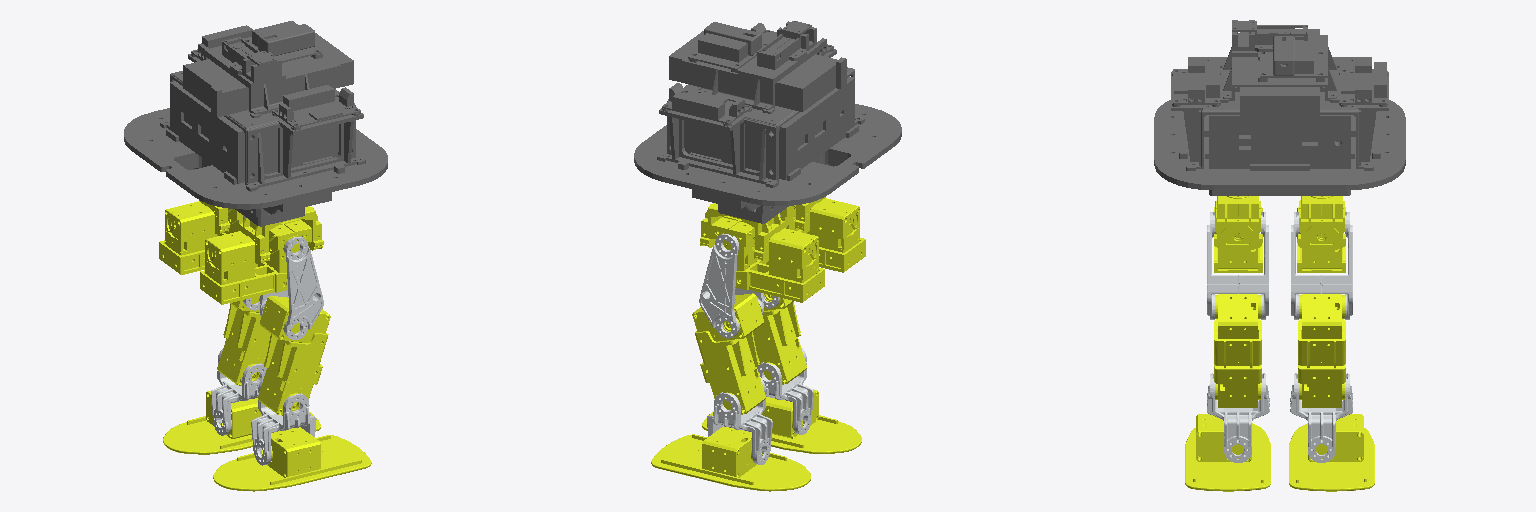
robot.urdf — exhx5_w_b_16:
<?xml version="1.0" encoding="utf-8"?>
<!-- This URDF was automatically created by SolidWorks to URDF Exporter! Originally created by [author] ([email redacted]) 
     Commit Version: 1.5.1-0-g916b5db  Build Version: 1.5.7152.31018
     For more information, please see http://wiki.ros.org/sw_urdf_exporter -->
<robot
  name="exhx5_w_b_16">
  <link
    name="body_link">
    <inertial>
      <origin
        xyz="0.00043545 0.00025536 0.10071"
        rpy="0 0 0" />
      <mass
        value="1.8238" />
      <inertia
        ixx="0.0025905"
        ixy="-5.6852E-06"
        ixz="-1.3106E-05"
        iyy="0.0024595"
        iyz="-1.261E-06"
        izz="0.0046407" />
    </inertial>
    <visual>
      <origin
        xyz="0 0 0"
        rpy="0 0 0" />
      <geometry>
        <mesh
          filename="../meshes/body_link.STL" />
      </geometry>
      <material
        name="">
        <color
          rgba="0.49804 0.49804 0.49804 1" />
      </material>
    </visual>
    <collision>
      <origin
        xyz="0 0 0"
        rpy="0 0 0" />
      <geometry>
        <mesh
          filename="../meshes/body_link.STL" />
      </geometry>
    </collision>
  </link>

  <link
    name="imu_link">
    <inertial>
      <origin
        xyz="-0.008387 1.336E-17 -0.0069463"
        rpy="0 0 0" />
      <mass
        value="0.0062931" />
      <inertia
        ixx="3.2242E-07"
        ixy="3.3527E-22"
        ixz="-6.9193E-08"
        iyy="9.2229E-07"
        iyz="-8.0392E-22"
        izz="1.1018E-06" />
    </inertial>
    <visual>
      <origin
        xyz="0 0 0"
        rpy="0 0 0" />
      <geometry>
        <mesh
          filename="../meshes/imu_link.STL" />
      </geometry>
      <material
        name="">
        <color
          rgba="0.79216 0.81961 0.93333 1" />
      </material>
    </visual>
    <collision>
      <origin
        xyz="0 0 0"
        rpy="0 0 0" />
      <geometry>
        <mesh
          filename="../meshes/imu_link.STL" />
      </geometry>
    </collision>
  </link>
  <joint
    name="imu"
    type="fixed">
    <origin
      xyz="0 0 0.0492"
      rpy="0 0 0" />
    <parent
      link="body_link" />
    <child
      link="imu_link" />
    <axis
      xyz="0 0 0" />
    <limit
      lower="-3.14"
      upper="3.14"
      effort="4"
      velocity="4" />
  </joint>
  <link
    name="l_hip_g_link">
    <inertial>
      <origin
        xyz="-0.0043797 -8.6604E-08 0.011813"
        rpy="0 0 0" />
      <mass
        value="0.061008" />
      <inertia
        ixx="1.167E-05"
        ixy="7.1767E-11"
        ixz="9.1442E-09"
        iyy="2.2342E-05"
        iyz="2.5177E-11"
        izz="2.4892E-05" />
    </inertial>
    <visual>
      <origin
        xyz="0 0 0"
        rpy="0 0 0" />
      <geometry>
        <mesh
          filename="../meshes/l_hip_g_link.STL" />
      </geometry>
      <material
        name="">
        <color
          rgba="0.9451 1 0.18431 1" />
      </material>
    </visual>
    <collision>
      <origin
        xyz="0 0 0"
        rpy="0 0 0" />
      <geometry>
        <mesh
          filename="../meshes/l_hip_g_link.STL" />
      </geometry>
    </collision>
  </link>
  <joint
    name="l_hip_g"
    type="fixed">
    <origin
      xyz=".003 .035 0"
      rpy="0 0 0" />
    <parent
      link="body_link" />
    <child
      link="l_hip_g_link" />
    <axis
      xyz="0 0 0" />
  </joint>
  <link
    name="l_hip_roll_link">
    <inertial>
      <origin
        xyz="0.013831 0.00033457 0.025453"
        rpy="0 0 0" />
      <mass
        value="0.2969" />
      <inertia
        ixx="7.8136E-05"
        ixy="7.265E-07"
        ixz="-6.9809E-08"
        iyy="9.2183E-05"
        iyz="-5.6881E-11"
        izz="7.1034E-05" />
    </inertial>
    <visual>
      <origin
        xyz="0 0 0"
        rpy="0 0 0" />
      <geometry>
        <mesh
          filename="../meshes/l_hip_roll_link.STL" />
      </geometry>
      <material
        name="">
        <color
          rgba="0.9451 1 0.18431 1" />
      </material>
    </visual>
    <collision>
      <origin
        xyz="0 0 0"
        rpy="0 0 0" />
      <geometry>
        <mesh
          filename="../meshes/l_hip_roll_link.STL" />
      </geometry>
    </collision>
  </link>
  <joint
    name="l_hip_roll"
    type="revolute">
    <origin
      xyz="0 0 0"
      rpy="3.1416 1.5708 0" />
    <parent
      link="l_hip_g_link" />
    <child
      link="l_hip_roll_link" />
    <axis
      xyz="0 0 1" />
    <limit
      lower="-3.14"
      upper="3.14"
      effort="4"
      velocity="4" />
  </joint>
  <link
    name="l_hip_pitch_link">
    <inertial>
      <origin
        xyz="0.041225 -0.007321 -5.0713E-08"
        rpy="0 0 0" />
      <mass
        value="0.051592" />
      <inertia
        ixx="2.7959E-05"
        ixy="2.0752E-06"
        ixz="-8.0934E-11"
        iyy="4.8156E-05"
        iyz="3.6317E-11"
        izz="2.9604E-05" />
    </inertial>
    <visual>
      <origin
        xyz="0 0 0"
        rpy="0 0 0" />
      <geometry>
        <mesh
          filename="../meshes/l_hip_pitch_link.STL" />
      </geometry>
      <material
        name="">
        <color
          rgba="0.89804 0.91765 0.92941 1" />
      </material>
    </visual>
    <collision>
      <origin
        xyz="0 0 0"
        rpy="0 0 0" />
      <geometry>
        <mesh
          filename="../meshes/l_hip_pitch_link.STL" />
      </geometry>
    </collision>
  </link>
  <joint
    name="l_hip_pitch"
    type="revolute">
    <origin
      xyz="0 0 0"
      rpy="1.5708 0 0" />
    <parent
      link="l_hip_roll_link" />
    <child
      link="l_hip_pitch_link" />
    <axis
      xyz="0 0 1" />
    <limit
      lower="-3.14"
      upper="3.14"
      effort="4"
      velocity="4" />
  </joint>
  <link
    name="l_knee_link">
    <inertial>
      <origin
        xyz="0.033756 -0.0084189 -6.6115E-09"
        rpy="0 0 0" />
      <mass
        value="0.28878" />
      <inertia
        ixx="6.6724E-05"
        ixy="7.5004E-07"
        ixz="-8.4578E-07"
        iyy="6.5699E-05"
        iyz="4.1085E-07"
        izz="7.0381E-05" />
    </inertial>
    <visual>
      <origin
        xyz="0 0 0"
        rpy="0 0 0" />
      <geometry>
        <mesh
          filename="../meshes/l_knee_link.STL" />
      </geometry>
      <material
        name="">
        <color
          rgba="0.9451 1 0.18431 1" />
      </material>
    </visual>
    <collision>
      <origin
        xyz="0 0 0"
        rpy="0 0 0" />
      <geometry>
        <mesh
          filename="../meshes/l_knee_link.STL" />
      </geometry>
    </collision>
  </link>
  <joint
    name="l_knee"
    type="revolute">
    <origin
      xyz="0.075954 0 0"
      rpy="0 0 0" />
    <parent
      link="l_hip_pitch_link" />
    <child
      link="l_knee_link" />
    <axis
      xyz="0 0 1" />
    <limit
      lower="-3.14"
      upper="3.14"
      effort="4"
      velocity="4" />
  </joint>
  <link
    name="l_ank_pitch_link">
    <inertial>
      <origin
        xyz="0.022786 -7.3909E-09 -7.1981E-06"
        rpy="0 0 0" />
      <mass
        value="0.044772" />
      <inertia
        ixx="1.777E-05"
        ixy="8.555E-14"
        ixz="-3.3713E-09"
        iyy="1.7119E-05"
        iyz="1.7593E-11"
        izz="1.8661E-05" />
    </inertial>
    <visual>
      <origin
        xyz="0 0 0"
        rpy="0 0 0" />
      <geometry>
        <mesh
          filename="../meshes/l_ank_pitch_link.STL" />
      </geometry>
      <material
        name="">
        <color
          rgba="0.89804 0.91765 0.92941 1" />
      </material>
    </visual>
    <collision>
      <origin
        xyz="0 0 0"
        rpy="0 0 0" />
      <geometry>
        <mesh
          filename="../meshes/l_ank_pitch_link.STL" />
      </geometry>
    </collision>
  </link>
  <joint
    name="l_ank_pitch"
    type="revolute">
    <origin
      xyz="0.074602 0 0"
      rpy="3.1416 0 0" />
    <parent
      link="l_knee_link" />
    <child
      link="l_ank_pitch_link" />
    <axis
      xyz="0 0 1" />
    <limit
      lower="-3.14"
      upper="3.14"
      effort="4"
      velocity="4" />
  </joint>
  <link
    name="l_ank_roll_link">
    <inertial>
      <origin
        xyz="0.0047069 0.010728 0.0015299"
        rpy="0 0 0" />
      <mass
        value="0.16774" />
      <inertia
        ixx="0.00012039"
        ixy="-3.7428E-09"
        ixz="4.4069E-08"
        iyy="8.7735E-05"
        iyz="7.0469E-07"
        izz="4.7866E-05" />
    </inertial>
    <visual>
      <origin
        xyz="0 0 0"
        rpy="0 0 0" />
      <geometry>
        <mesh
          filename="../meshes/l_ank_roll_link.STL" />
      </geometry>
      <material
        name="">
        <color
          rgba="0.9451 1 0.18431 1" />
      </material>
    </visual>
    <collision>
      <origin
        xyz="0 0 0"
        rpy="0 0 0" />
      <geometry>
        <mesh
          filename="../meshes/l_ank_roll_link.STL" />
      </geometry>
    </collision>
  </link>
  <joint
    name="l_ank_roll"
    type="revolute">
    <origin
      xyz="0.0465 0 0"
      rpy="-1.5708 0 0" />
    <parent
      link="l_ank_pitch_link" />
    <child
      link="l_ank_roll_link" />
    <axis
      xyz="0 0 1" />
    <limit
      lower="-3.14"
      upper="3.14"
      effort="4"
      velocity="4" />
  </joint>
  <link
    name="r_hip_g_link">
    <inertial>
      <origin
        xyz="-0.0043797 -8.6604E-08 0.011813"
        rpy="0 0 0" />
      <mass
        value="0.061008" />
      <inertia
        ixx="1.167E-05"
        ixy="7.1767E-11"
        ixz="9.1442E-09"
        iyy="2.2342E-05"
        iyz="2.5177E-11"
        izz="2.4892E-05" />
    </inertial>
    <visual>
      <origin
        xyz="0 0 0"
        rpy="0 0 0" />
      <geometry>
        <mesh
          filename="../meshes/r_hip_g_link.STL" />
      </geometry>
      <material
        name="">
        <color
          rgba="0.9451 1 0.18431 1" />
      </material>
    </visual>
    <collision>
      <origin
        xyz="0 0 0"
        rpy="0 0 0" />
      <geometry>
        <mesh
          filename="../meshes/r_hip_g_link.STL" />
      </geometry>
    </collision>
  </link>
  <joint
    name="r_hip_g"
    type="fixed">
    <origin
      xyz=".003 -.035 0"
      rpy="0 0 0" />
    <parent
      link="body_link" />
    <child
      link="r_hip_g_link" />
    <axis
      xyz="0 0 0" />
  </joint>
  <link
    name="r_hip_roll_link">
    <inertial>
      <origin
        xyz="0.013831 0.00033457 0.025453"
        rpy="0 0 0" />
      <mass
        value="0.2969" />
      <inertia
        ixx="7.8136E-05"
        ixy="7.265E-07"
        ixz="-6.9809E-08"
        iyy="9.2183E-05"
        iyz="-5.6881E-11"
        izz="7.1034E-05" />
    </inertial>
    <visual>
      <origin
        xyz="0 0 0"
        rpy="0 0 0" />
      <geometry>
        <mesh
          filename="../meshes/r_hip_roll_link.STL" />
      </geometry>
      <material
        name="">
        <color
          rgba="0.9451 1 0.18431 1" />
      </material>
    </visual>
    <collision>
      <origin
        xyz="0 0 0"
        rpy="0 0 0" />
      <geometry>
        <mesh
          filename="../meshes/r_hip_roll_link.STL" />
      </geometry>
    </collision>
  </link>
  <joint
    name="r_hip_roll"
    type="revolute">
    <origin
      xyz="0 0 0"
      rpy="3.1416 1.5708 0" />
    <parent
      link="r_hip_g_link" />
    <child
      link="r_hip_roll_link" />
    <axis
      xyz="0 0 1" />
    <limit
      lower="-3.14"
      upper="3.14"
      effort="4"
      velocity="4" />
  </joint>
  <link
    name="r_hip_pitch_link">
    <inertial>
      <origin
        xyz="0.041225 0.007321 5.0713E-08"
        rpy="0 0 0" />
      <mass
        value="0.051592" />
      <inertia
        ixx="2.7959E-05"
        ixy="-2.0752E-06"
        ixz="8.0934E-11"
        iyy="4.8156E-05"
        iyz="3.6317E-11"
        izz="2.9604E-05" />
    </inertial>
    <visual>
      <origin
        xyz="0 0 0"
        rpy="0 0 0" />
      <geometry>
        <mesh
          filename="../meshes/r_hip_pitch_link.STL" />
      </geometry>
      <material
        name="">
        <color
          rgba="0.89804 0.91765 0.92941 1" />
      </material>
    </visual>
    <collision>
      <origin
        xyz="0 0 0"
        rpy="0 0 0" />
      <geometry>
        <mesh
          filename="../meshes/r_hip_pitch_link.STL" />
      </geometry>
    </collision>
  </link>
  <joint
    name="r_hip_pitch"
    type="revolute">
    <origin
      xyz="0 0 0"
      rpy="-1.5708 0 0" />
    <parent
      link="r_hip_roll_link" />
    <child
      link="r_hip_pitch_link" />
    <axis
      xyz="0 0 1" />
    <limit
      lower="-3.14"
      upper="3.14"
      effort="4"
      velocity="4" />
  </joint>
  <link
    name="r_knee_link">
    <inertial>
      <origin
        xyz="0.033757 0.0084176 6.6115E-09"
        rpy="0 0 0" />
      <mass
        value="0.28878" />
      <inertia
        ixx="6.6724E-05"
        ixy="-7.5008E-07"
        ixz="8.458E-07"
        iyy="6.5699E-05"
        iyz="4.1081E-07"
        izz="7.0381E-05" />
    </inertial>
    <visual>
      <origin
        xyz="0 0 0"
        rpy="0 0 0" />
      <geometry>
        <mesh
          filename="../meshes/r_knee_link.STL" />
      </geometry>
      <material
        name="">
        <color
          rgba="0.9451 1 0.18431 1" />
      </material>
    </visual>
    <collision>
      <origin
        xyz="0 0 0"
        rpy="0 0 0" />
      <geometry>
        <mesh
          filename="../meshes/r_knee_link.STL" />
      </geometry>
    </collision>
  </link>
  <joint
    name="r_knee"
    type="revolute">
    <origin
      xyz="0.075954 0 0"
      rpy="0 0 0" />
    <parent
      link="r_hip_pitch_link" />
    <child
      link="r_knee_link" />
    <axis
      xyz="0 0 1" />
    <limit
      lower="-3.14"
      upper="3.14"
      effort="4"
      velocity="4" />
  </joint>
  <link
    name="r_ank_pitch_link">
    <inertial>
      <origin
        xyz="0.025786 -7.3887E-09 -7.1981E-06"
        rpy="0 0 0" />
      <mass
        value="0.044772" />
      <inertia
        ixx="1.777E-05"
        ixy="8.5434E-14"
        ixz="-3.3713E-09"
        iyy="1.7119E-05"
        iyz="1.7592E-11"
        izz="1.8661E-05" />
    </inertial>
    <visual>
      <origin
        xyz="0 0 0"
        rpy="0 0 0" />
      <geometry>
        <mesh
          filename="../meshes/r_ank_pitch_link.STL" />
      </geometry>
      <material
        name="">
        <color
          rgba="0.89804 0.91765 0.92941 1" />
      </material>
    </visual>
    <collision>
      <origin
        xyz="0 0 0"
        rpy="0 0 0" />
      <geometry>
        <mesh
          filename="../meshes/r_ank_pitch_link.STL" />
      </geometry>
    </collision>
  </link>
  <joint
    name="r_ank_pitch"
    type="revolute">
    <origin
      xyz="0.071602 0 0"
      rpy="3.1416 0 0" />
    <parent
      link="r_knee_link" />
    <child
      link="r_ank_pitch_link" />
    <axis
      xyz="0 0 1" />
    <limit
      lower="-3.14"
      upper="3.14"
      effort="4"
      velocity="4" />
  </joint>
  <link
    name="r_ank_roll_link">
    <inertial>
      <origin
        xyz="0.0077069 -0.010728 0.0015299"
        rpy="0 0 0" />
      <mass
        value="0.16774" />
      <inertia
        ixx="0.00012039"
        ixy="3.743E-09"
        ixz="4.407E-08"
        iyy="8.7735E-05"
        iyz="-7.0467E-07"
        izz="4.7866E-05" />
    </inertial>
    <visual>
      <origin
        xyz="0 0 0"
        rpy="0 0 0" />
      <geometry>
        <mesh
          filename="../meshes/r_ank_roll_link.STL" />
      </geometry>
      <material
        name="">
        <color
          rgba="0.9451 1 0.18431 1" />
      </material>
    </visual>
    <collision>
      <origin
        xyz="0 0 0"
        rpy="0 0 0" />
      <geometry>
        <mesh
          filename="../meshes/r_ank_roll_link.STL" />
      </geometry>
    </collision>
  </link>
  <joint
    name="r_ank_roll"
    type="revolute">
    <origin
      xyz="0.0465 0 0"
      rpy="1.5708 0 0" />
    <parent
      link="r_ank_pitch_link" />
    <child
      link="r_ank_roll_link" />
    <axis
      xyz="0 0 1" />
    <limit
      lower="-3.14"
      upper="3.14"
      effort="4"
      velocity="4" />
  </joint>
  <transmission name="r_hip_roll_tran">
    <type>transmission_interface/SimpleTransmission</type>
    <joint name="r_hip_roll">
      <hardwareInterface>hardware_interface/EffortJointInterface</hardwareInterface>
    </joint>
    <actuator name="r_hip_roll_motor">
      <hardwareInterface>hardware_interface/EffortJointInterface</hardwareInterface>
      <mechanicalReduction>1</mechanicalReduction>
    </actuator>
  </transmission>
  <transmission name="r_hip_pitch_tran">
    <type>transmission_interface/SimpleTransmission</type>
    <joint name="r_hip_pitch">
      <hardwareInterface>hardware_interface/EffortJointInterface</hardwareInterface>
    </joint>
    <actuator name="r_hip_pitch_motor">
      <hardwareInterface>hardware_interface/EffortJointInterface</hardwareInterface>
      <mechanicalReduction>1</mechanicalReduction>
    </actuator>
  </transmission>
  <transmission name="r_knee_tran">
    <type>transmission_interface/SimpleTransmission</type>
    <joint name="r_knee">
      <hardwareInterface>hardware_interface/EffortJointInterface</hardwareInterface>
    </joint>
    <actuator name="r_knee_motor">
      <hardwareInterface>hardware_interface/EffortJointInterface</hardwareInterface>
      <mechanicalReduction>1</mechanicalReduction>
    </actuator>
  </transmission>
  <transmission name="r_ank_pitch_tran">
    <type>transmission_interface/SimpleTransmission</type>
    <joint name="r_ank_pitch">
      <hardwareInterface>hardware_interface/EffortJointInterface</hardwareInterface>
    </joint>
    <actuator name="r_ank_pitch_motor">
      <hardwareInterface>hardware_interface/EffortJointInterface</hardwareInterface>
      <mechanicalReduction>1</mechanicalReduction>
    </actuator>
  </transmission>
  <transmission name="r_ank_roll_tran">
    <type>transmission_interface/SimpleTransmission</type>
    <joint name="r_ank_roll">
      <hardwareInterface>hardware_interface/EffortJointInterface</hardwareInterface>
    </joint>
    <actuator name="r_ank_roll_motor">
      <hardwareInterface>hardware_interface/EffortJointInterface</hardwareInterface>
      <mechanicalReduction>1</mechanicalReduction>
    </actuator>
  </transmission>
  <transmission name="l_hip_roll_tran">
    <type>transmission_interface/SimpleTransmission</type>
    <joint name="l_hip_roll">
      <hardwareInterface>hardware_interface/EffortJointInterface</hardwareInterface>
    </joint>
    <actuator name="l_hip_roll_motor">
      <hardwareInterface>hardware_interface/EffortJointInterface</hardwareInterface>
      <mechanicalReduction>1</mechanicalReduction>
    </actuator>
  </transmission>
  <transmission name="l_hip_pitch_tran">
    <type>transmission_interface/SimpleTransmission</type>
    <joint name="l_hip_pitch">
      <hardwareInterface>hardware_interface/EffortJointInterface</hardwareInterface>
    </joint>
    <actuator name="l_hip_pitch_motor">
      <hardwareInterface>hardware_interface/EffortJointInterface</hardwareInterface>
      <mechanicalReduction>1</mechanicalReduction>
    </actuator>
  </transmission>
  <transmission name="l_knee_tran">
    <type>transmission_interface/SimpleTransmission</type>
    <joint name="l_knee">
      <hardwareInterface>hardware_interface/EffortJointInterface</hardwareInterface>
    </joint>
    <actuator name="l_knee_motor">
      <hardwareInterface>hardware_interface/EffortJointInterface</hardwareInterface>
      <mechanicalReduction>1</mechanicalReduction>
    </actuator>
  </transmission>
  <transmission name="l_ank_pitch_tran">
    <type>transmission_interface/SimpleTransmission</type>
    <joint name="l_ank_pitch">
      <hardwareInterface>hardware_interface/EffortJointInterface</hardwareInterface>
    </joint>
    <actuator name="l_ank_pitch_motor">
      <hardwareInterface>hardware_interface/EffortJointInterface</hardwareInterface>
      <mechanicalReduction>1</mechanicalReduction>
    </actuator>
  </transmission>
  <transmission name="l_ank_roll_tran">
    <type>transmission_interface/SimpleTransmission</type>
    <joint name="l_ank_roll">
      <hardwareInterface>hardware_interface/EffortJointInterface</hardwareInterface>
    </joint>
    <actuator name="l_ank_roll_motor">
      <hardwareInterface>hardware_interface/EffortJointInterface</hardwareInterface>
      <mechanicalReduction>1</mechanicalReduction>
    </actuator>
  </transmission>
</robot>

--- Render facts (derived) ---
The picture shows the robot from 3 angles, left to right: view 1: azimuth 30°, elevation 25°; view 2: azimuth 150°, elevation 25°; view 3: azimuth 270°, elevation 25°; orthographic projection.
Robot: exhx5_w_b_16 — 14 links, 13 joints (10 revolute, 3 fixed); root link body_link; default pose: all joints at 0.
Visible links, largest first — view 1: body_link, r_ank_roll_link, r_hip_roll_link, r_knee_link, l_hip_roll_link, l_ank_roll_link, r_hip_pitch_link, l_knee_link, r_ank_pitch_link, l_ank_pitch_link, r_hip_g_link; view 2: body_link, l_ank_roll_link, l_hip_roll_link, l_knee_link, r_hip_roll_link, r_ank_roll_link, l_hip_pitch_link, r_knee_link, l_ank_pitch_link, r_ank_pitch_link, l_hip_g_link; view 3: body_link, l_knee_link, r_knee_link, l_ank_roll_link, r_ank_roll_link, l_hip_pitch_link, r_hip_pitch_link, l_hip_g_link, r_hip_g_link, r_ank_pitch_link, l_ank_pitch_link, l_hip_roll_link (+1 smaller).
Boxes of the visible links, x1=… form: body_link: x1=124, y1=21, x2=387, y2=251; r_ank_roll_link: x1=213, y1=427, x2=371, y2=491; r_hip_roll_link: x1=200, y1=219, x2=311, y2=304; r_knee_link: x1=258, y1=296, x2=330, y2=415; l_hip_roll_link: x1=159, y1=201, x2=243, y2=274; l_ank_roll_link: x1=163, y1=390, x2=320, y2=454; r_hip_pitch_link: x1=260, y1=236, x2=323, y2=339; l_knee_link: x1=217, y1=296, x2=270, y2=385; r_ank_pitch_link: x1=251, y1=378, x2=316, y2=465; l_ank_pitch_link: x1=211, y1=349, x2=266, y2=435; r_hip_g_link: x1=239, y1=206, x2=323, y2=263; body_link: x1=634, y1=21, x2=901, y2=223; l_ank_roll_link: x1=651, y1=426, x2=810, y2=491; l_hip_roll_link: x1=711, y1=216, x2=824, y2=302; l_knee_link: x1=692, y1=293, x2=765, y2=414; r_hip_roll_link: x1=780, y1=198, x2=865, y2=272; r_ank_roll_link: x1=702, y1=389, x2=861, y2=453; l_hip_pitch_link: x1=699, y1=233, x2=763, y2=338; r_knee_link: x1=753, y1=294, x2=806, y2=384; l_ank_pitch_link: x1=707, y1=377, x2=772, y2=464; r_ank_pitch_link: x1=757, y1=347, x2=813, y2=434; l_hip_g_link: x1=700, y1=203, x2=784, y2=261; body_link: x1=1154, y1=20, x2=1405, y2=195; l_knee_link: x1=1298, y1=294, x2=1345, y2=407; r_knee_link: x1=1214, y1=294, x2=1261, y2=407; l_ank_roll_link: x1=1289, y1=414, x2=1374, y2=491; r_ank_roll_link: x1=1185, y1=414, x2=1270, y2=491; l_hip_pitch_link: x1=1291, y1=212, x2=1352, y2=319; r_hip_pitch_link: x1=1207, y1=212, x2=1268, y2=319; l_hip_g_link: x1=1297, y1=196, x2=1345, y2=247; r_hip_g_link: x1=1214, y1=196, x2=1262, y2=247; r_ank_pitch_link: x1=1207, y1=373, x2=1269, y2=462; l_ank_pitch_link: x1=1290, y1=373, x2=1352, y2=462; l_hip_roll_link: x1=1297, y1=200, x2=1345, y2=272.
Bounding box of the posed robot: 0.185 × 0.21 × 0.3893 m (x, y, z).
Meshes: 14 distinct files referenced, 14 mesh visuals loaded (14 binary STL).